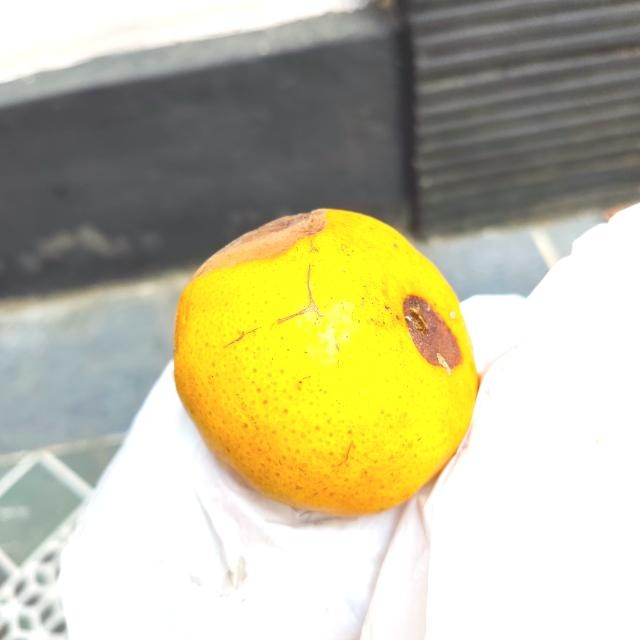agrume: (172, 209, 480, 524)
